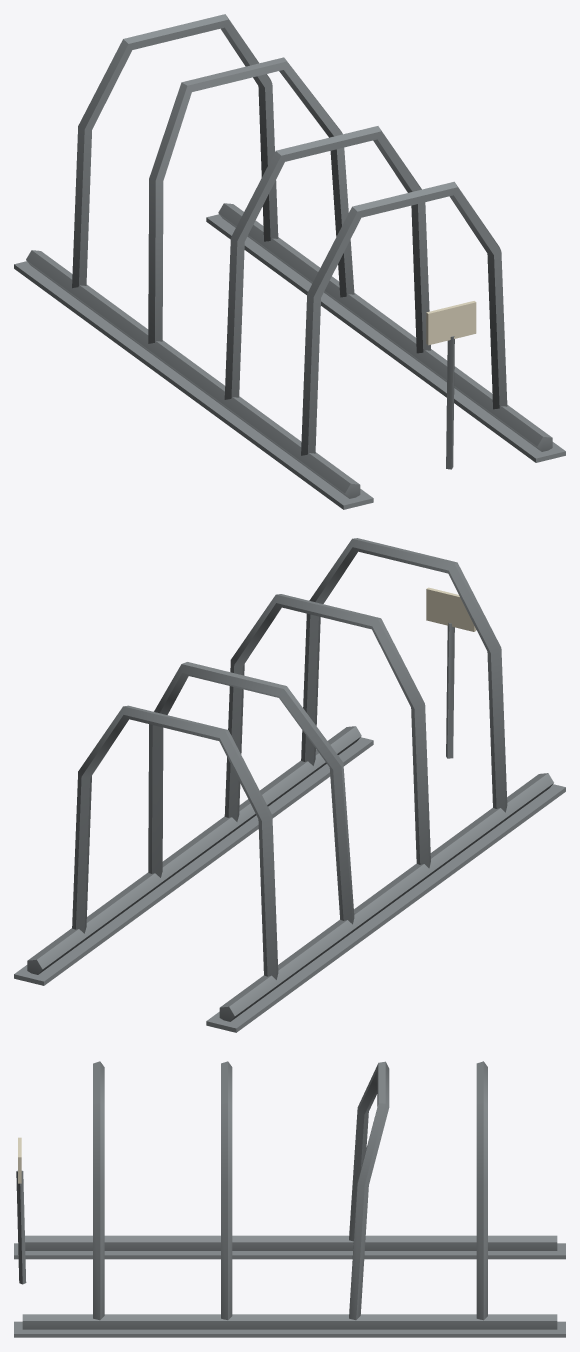
The model's file is rack_bike.glb.
3 renders of one model, top to bottom at view 1: azimuth 30°, elevation 25°; view 2: azimuth 150°, elevation 25°; view 3: azimuth 270°, elevation 25°, orthographic. The views are drawn at different scales.
Parts seen in each view (by area): view 1: rack_bike; view 2: rack_bike; view 3: rack_bike.
Part boxes in pixels (bbox=[...]): rack_bike: bbox=[14, 14, 565, 509]; rack_bike: bbox=[14, 538, 565, 1032]; rack_bike: bbox=[14, 1061, 565, 1337].
Size of the model in its own units: 0.74 by 0.7982 by 1.9.
